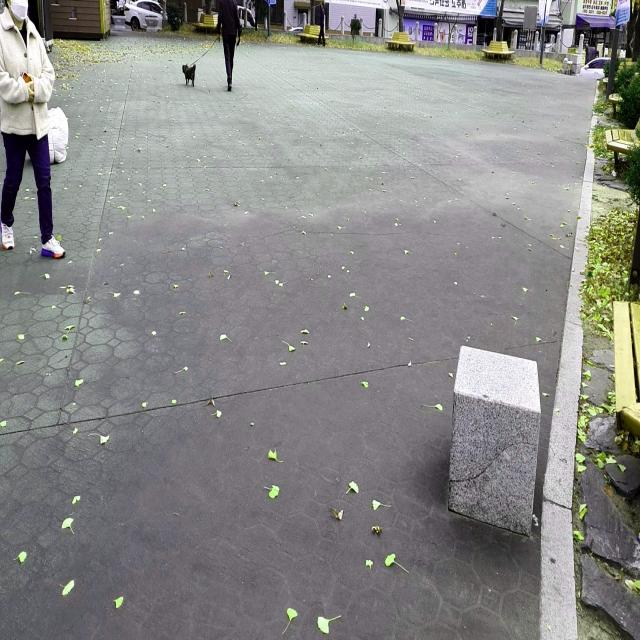Leashed_Dog: (182, 21, 231, 88)
